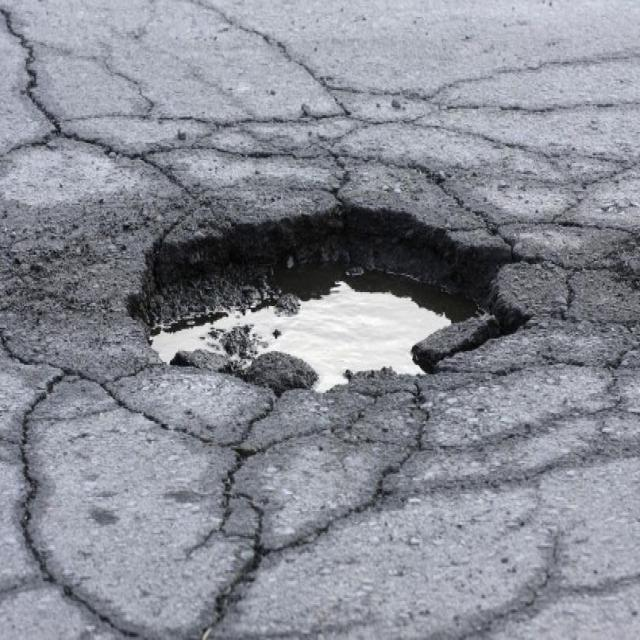Pothole: (122, 185, 534, 421)
